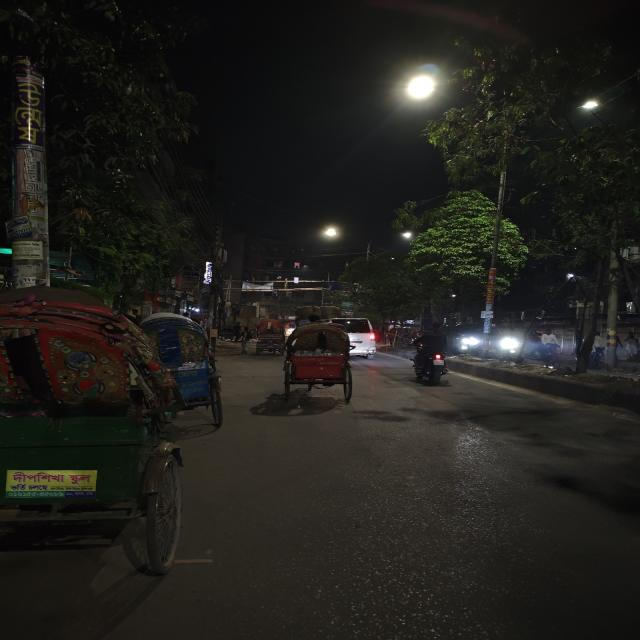car: (448, 318, 521, 357), (326, 314, 386, 356)
motorcycle: (408, 322, 451, 387)
rickshaw: (0, 281, 214, 583), (116, 298, 237, 430), (277, 322, 356, 400), (249, 320, 287, 356)
